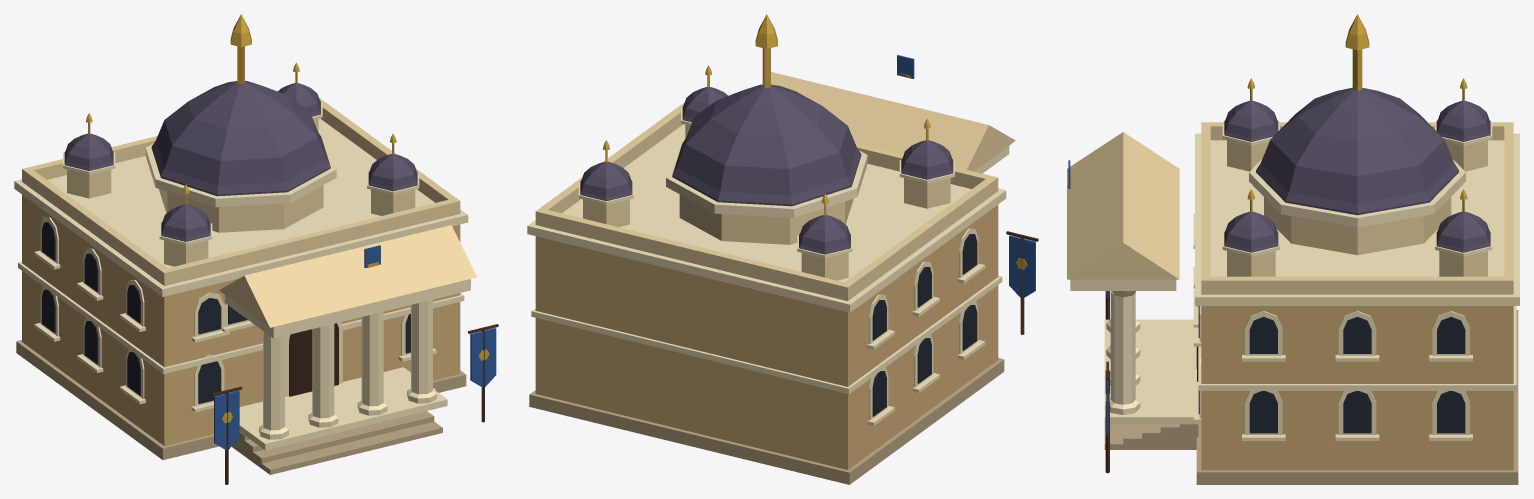
File: library.fbx
3 views of the same model, side by side, from view 1: azimuth 30°, elevation 25°; view 2: azimuth 150°, elevation 25°; view 3: azimuth 270°, elevation 25° (orthographic). The views are drawn at different scales.
Visible parts, largest first — view 1: library; view 2: library; view 3: library.
Boxes of the visible parts, x1,y1,x2,y2 form: library: (14,14,498,484); library: (527,14,1038,484); library: (1067,14,1519,484).
Size of the model in its own units: 12.5 by 13.77 by 14.5.
Materials: 1 (1 with a texture image).
